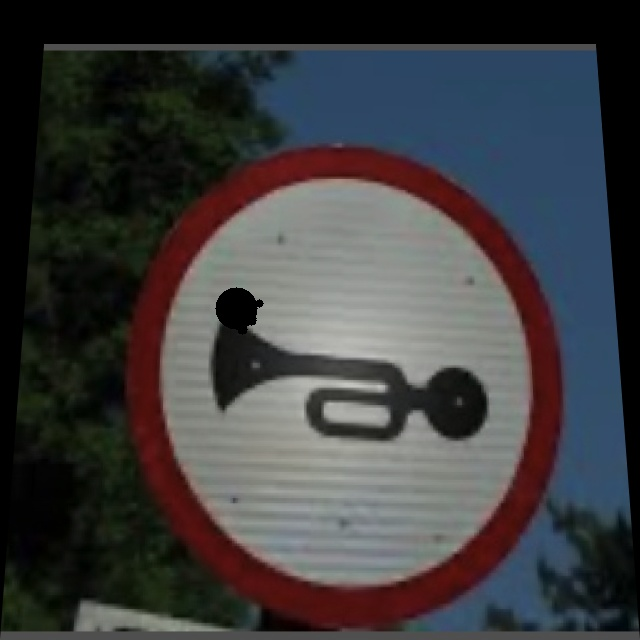Compulsory_Sound_Horn: (128, 154, 560, 586)
